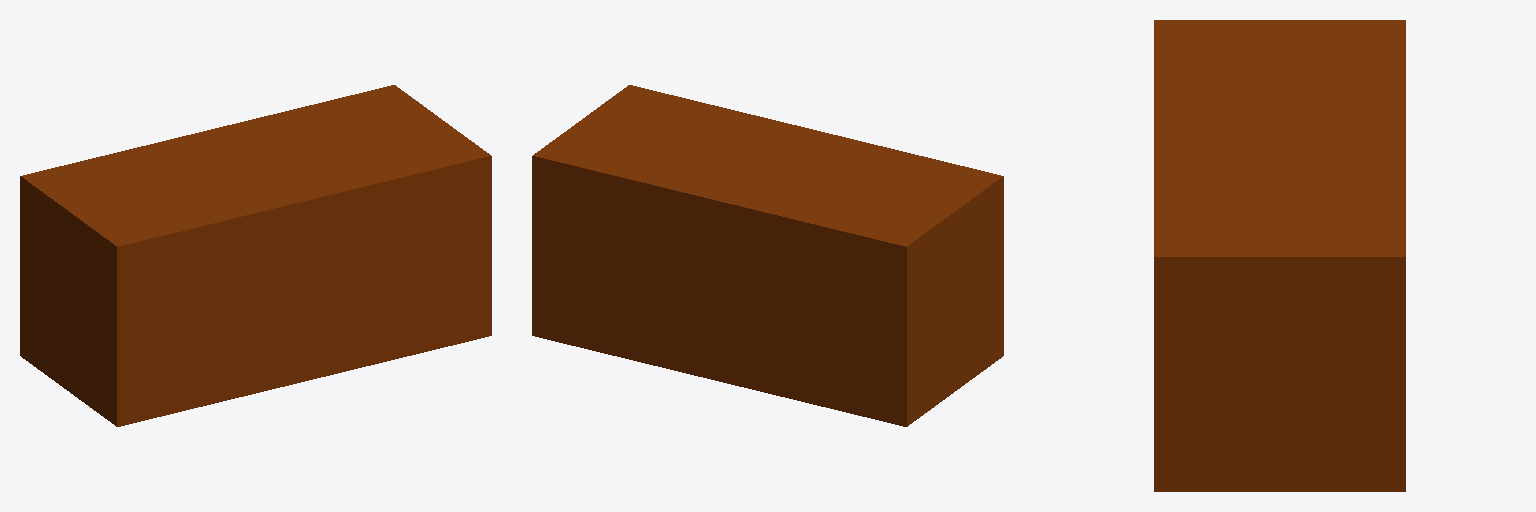
URDF robot description (handle_head):
<?xml version="1.0"?>
<robot name="handle_head">

  <link name="handle_head">
    <!-- Handle -->
    <visual>
      <origin xyz="0 0 0" rpy="0 0 0"/>
      <geometry>
        <box size="0.14837379460413064 0.06658181103095169 0.06833669863465104"/>
      </geometry>
      <material name="brown">
        <color rgba="0.55 0.27 0.07 1.0"/>
      </material>
    </visual>
    <collision>
      <origin xyz="0 0 0" rpy="0 0 0"/>
      <geometry>
        <box size="0.14837379460413064 0.06658181103095169 0.06833669863465104"/>
      </geometry>
    </collision>

    <inertial>
      <origin xyz="0 0 0" rpy="0 0 0"/>
      <mass value="0.34191222095975793"/>
      <inertia ixx="0.000259370107278933" iyy="0.0007603183918536849" izz="0.0007535722694105674" ixy="0" ixz="0" iyz="0"/>
    </inertial>
  </link>

</robot>

--- Facts derived from the render (not from the file) ---
Views: 3 orthographic renders of the robot side by side, from view 1: azimuth 30°, elevation 25°; view 2: azimuth 150°, elevation 25°; view 3: azimuth 270°, elevation 25°.
Model handle_head with 1 links and 0 joints (none), rooted at handle_head, posed all joints at 0.
Visible links, largest first — view 1: handle_head; view 2: handle_head; view 3: handle_head.
Boxes of the visible links, <box> form: handle_head: <box>20,85,491,426</box>; handle_head: <box>532,85,1003,426</box>; handle_head: <box>1154,20,1405,491</box>.
Bounding box of the posed robot: 0.1484 × 0.0666 × 0.0683 m (x, y, z).
Geometry: primitives only (box / cylinder / sphere), no mesh files.
